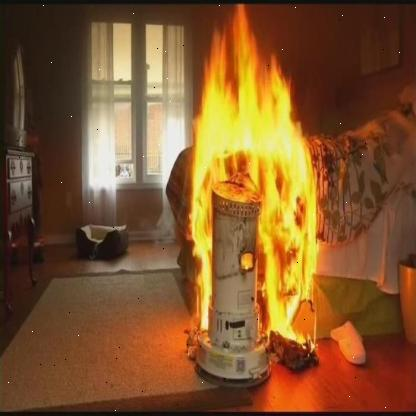fire: (187, 3, 320, 352)
